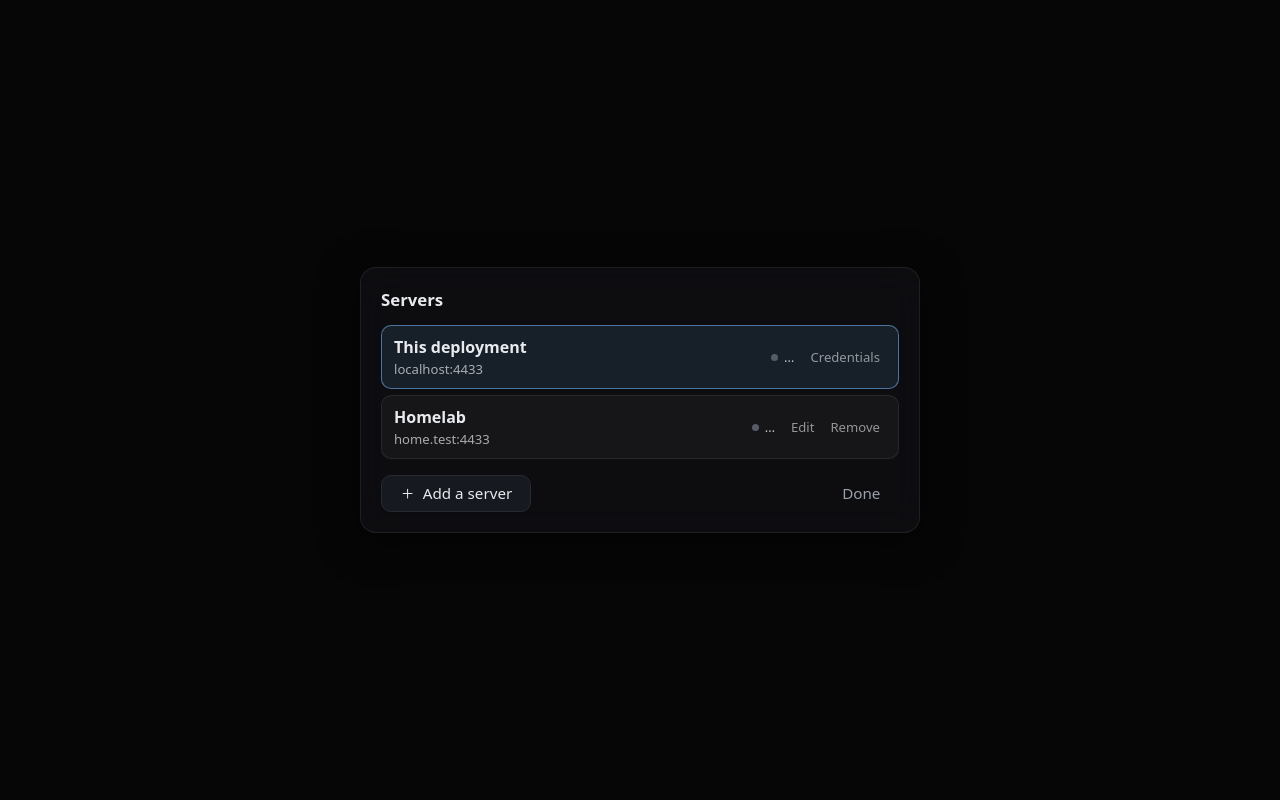
Test case: ServerPickerPanel add/edit form › starts Advanced open when the entry being edited already has a credential
Click the button with aria-label "Edit Homelab" at (803, 427), box [791,418,814,436]
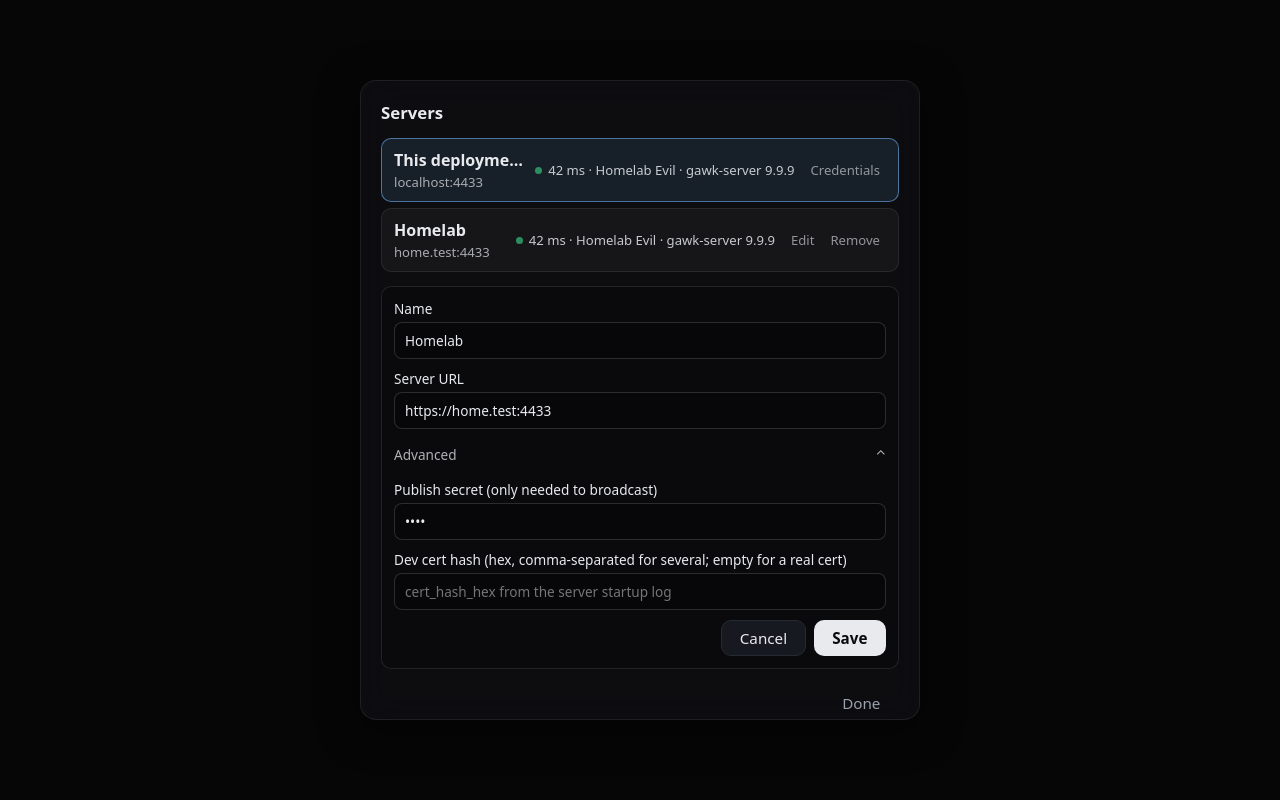
expect the password field labelled "Publish secret (only needed to broadcast)" holds "kept": met, box [394,503,886,540]
